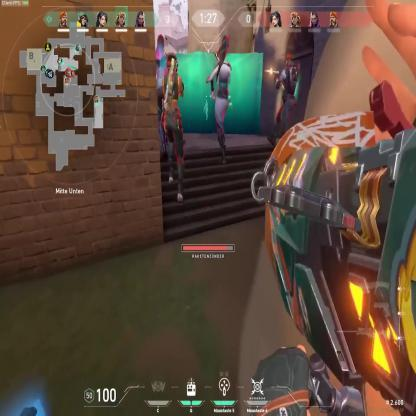enemy: (272, 50, 302, 170), (163, 52, 185, 201), (210, 32, 228, 165), (154, 34, 170, 156)
enemy_head: (166, 54, 178, 74), (217, 43, 226, 63), (284, 53, 293, 69), (158, 34, 165, 53)
